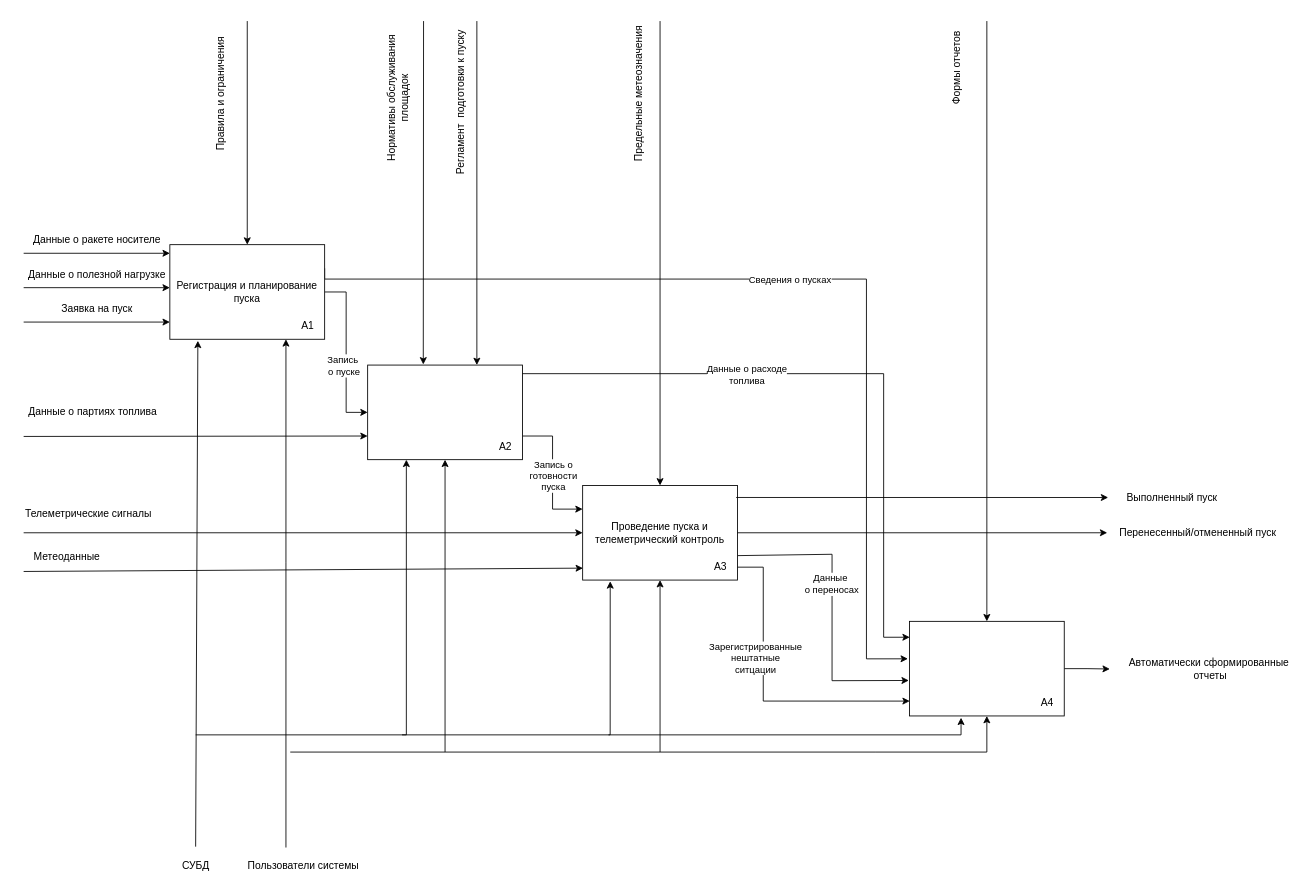
Image size: 1313x894. Some labels were removed from this diagram. Here are the shapes that lost their labels. From the top down, the box of each, then its label:
(367, 364, 522, 460): Подготовка к пуску и учет топлива
(909, 620, 1064, 716): Формирование отчетности
